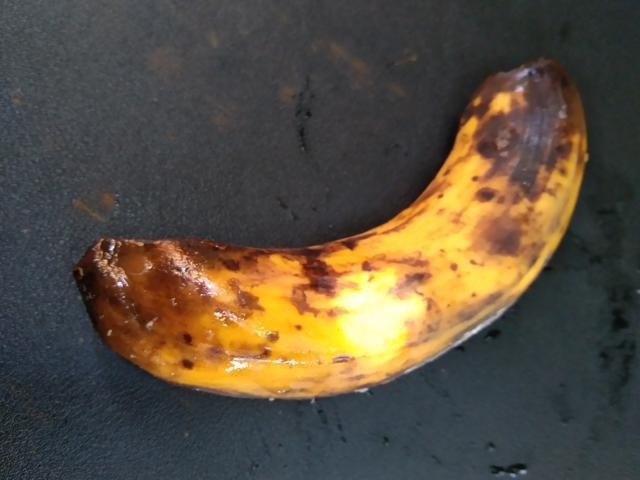rotten: (46, 37, 608, 450)
